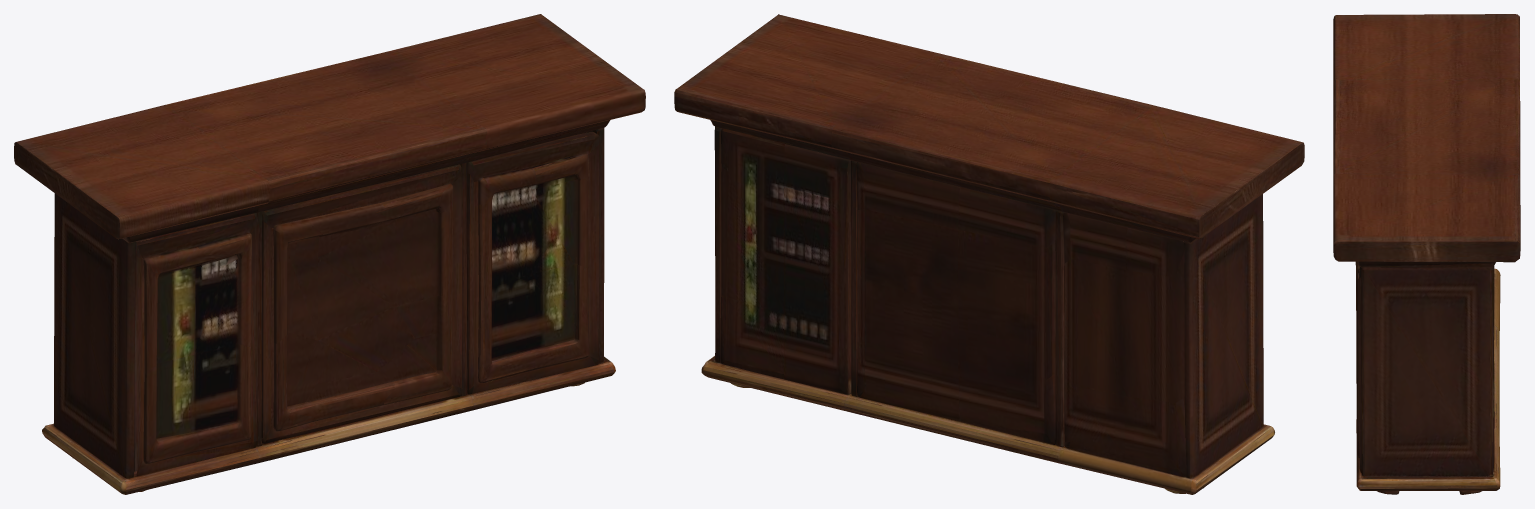
Rendered from bar-counter.glb.
3 views of the same model, side by side, from view 1: azimuth 30°, elevation 25°; view 2: azimuth 150°, elevation 25°; view 3: azimuth 270°, elevation 25° (orthographic). The views are drawn at different scales.
Size of the model in its own units: 2 by 1.1 by 0.7.
1 material, 1 textured.
